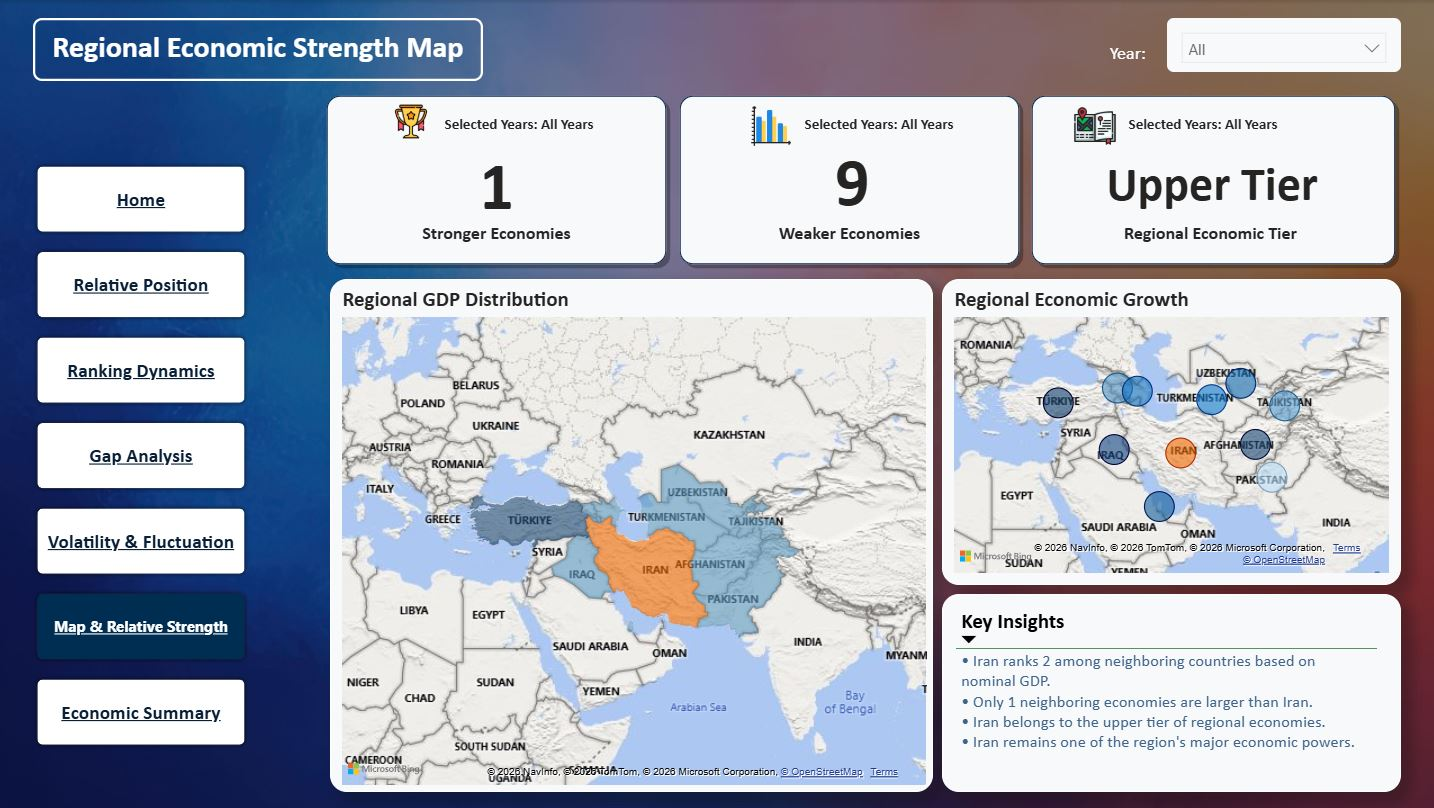

Layout of this report page (visuals, bound fields, positions):
{"tool":"powerbi","page":{"name":"Map & Relative Strength","canvas":[1280,720],"ordinal":5},"visuals":[{"type":"slicer","fields":{"Values":["DimDate.Year"]},"box":[1040,16,208,48],"z":0},{"type":"shape","box":[288,80,312,160],"z":0,"group":"g1"},{"type":"shape","box":[602,80,312,160],"z":0,"group":"g2"},{"type":"shape","box":[914.8,80,333.2,160],"z":0,"group":"g3"},{"type":"textbox","box":[984,32,56,32],"z":1000},{"type":"pageNavigator","box":[32,144,192,528],"z":2000},{"type":"textbox","box":[32,16,400,56],"z":3000},{"type":"textbox","box":[602,192,312,48],"z":3000,"group":"g2"},{"type":"textbox","box":[288,192,312,48],"z":4000,"group":"g1"},{"type":"textbox","box":[912,192,333.2,48],"z":4000,"group":"g3"},{"type":"filledMap","title":"Regional GDP Distribution","fields":{"Category":["DimCountry.CountryName"]},"box":[296,248,536,456],"z":4000},{"type":"map","title":"Regional Economic Growth","fields":{"Category":["DimCountry.CountryName"],"Size":["Measure.IranGDP"]},"box":[840,248,408,272],"z":5000},{"type":"tableEx","title":"Key Insights and Executive Summary","fields":{"Values":["Measure.P5Insights"]},"box":[840,528,408,176],"z":7000},{"type":"group","id":"g1","title":"Group 1","box":[288,80,312,160],"z":8000},{"type":"group","id":"g2","title":"Group 1","box":[602,80,312,160],"z":9000},{"type":"group","id":"g3","title":"Group 1","box":[912,80,336,160],"z":10000},{"type":"card","fields":{"Values":["Measure.SelectedYear"]},"box":[384,80,160,64],"z":11000},{"type":"card","fields":{"Values":["Measure.SelectedYear"]},"box":[992,80,160,64],"z":12000},{"type":"card","fields":{"Values":["Measure.SelectedYear"]},"box":[704,80,160,64],"z":13000},{"type":"card","fields":{"Values":["Measure.EconomicTier"]},"box":[920,128,320,64],"z":14000},{"type":"card","fields":{"Values":["Measure.CountriesBelowIran"]},"box":[608,120,304,72],"z":15000},{"type":"image","box":[664,88,48,48],"z":16000},{"type":"card","fields":{"Values":["Measure.CountriesAboveIran"]},"box":[296,128,296,64],"z":17000},{"type":"image","box":[344,88,48,40],"z":18000},{"type":"image","box":[952,88,48,48],"z":19000}]}

Visuals, with their boxes in screenshot pixels (x1, y1, x2, y2), scaled from the page's 1280x720 canvas onto the 1434x808 screenshot:
slicer - DimDate.Year: crop(1165, 18, 1398, 72)
shape: crop(323, 90, 672, 269)
shape: crop(674, 90, 1024, 269)
shape: crop(1025, 90, 1398, 269)
textbox: crop(1102, 36, 1165, 72)
pageNavigator: crop(36, 162, 251, 754)
textbox: crop(36, 18, 484, 81)
textbox: crop(674, 215, 1024, 269)
textbox: crop(323, 215, 672, 269)
textbox: crop(1022, 215, 1395, 269)
"Regional GDP Distribution" filledMap: crop(332, 278, 932, 790)
"Regional Economic Growth" map: crop(941, 278, 1398, 584)
"Key Insights and Executive Summary" tableEx: crop(941, 593, 1398, 790)
"Group 1" group: crop(323, 90, 672, 269)
"Group 1" group: crop(674, 90, 1024, 269)
"Group 1" group: crop(1022, 90, 1398, 269)
card - Measure.SelectedYear: crop(430, 90, 609, 162)
card - Measure.SelectedYear: crop(1111, 90, 1291, 162)
card - Measure.SelectedYear: crop(789, 90, 968, 162)
card - Measure.EconomicTier: crop(1031, 144, 1389, 215)
card - Measure.CountriesBelowIran: crop(681, 135, 1022, 215)
image: crop(744, 99, 798, 153)
card - Measure.CountriesAboveIran: crop(332, 144, 663, 215)
image: crop(385, 99, 439, 144)
image: crop(1067, 99, 1120, 153)
